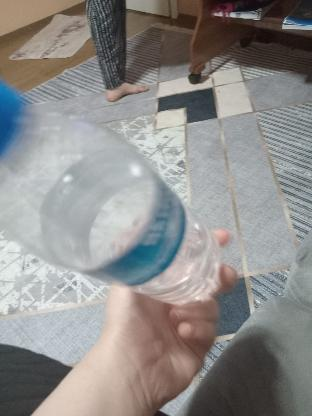Plastic Bottle: (0, 86, 224, 310)
